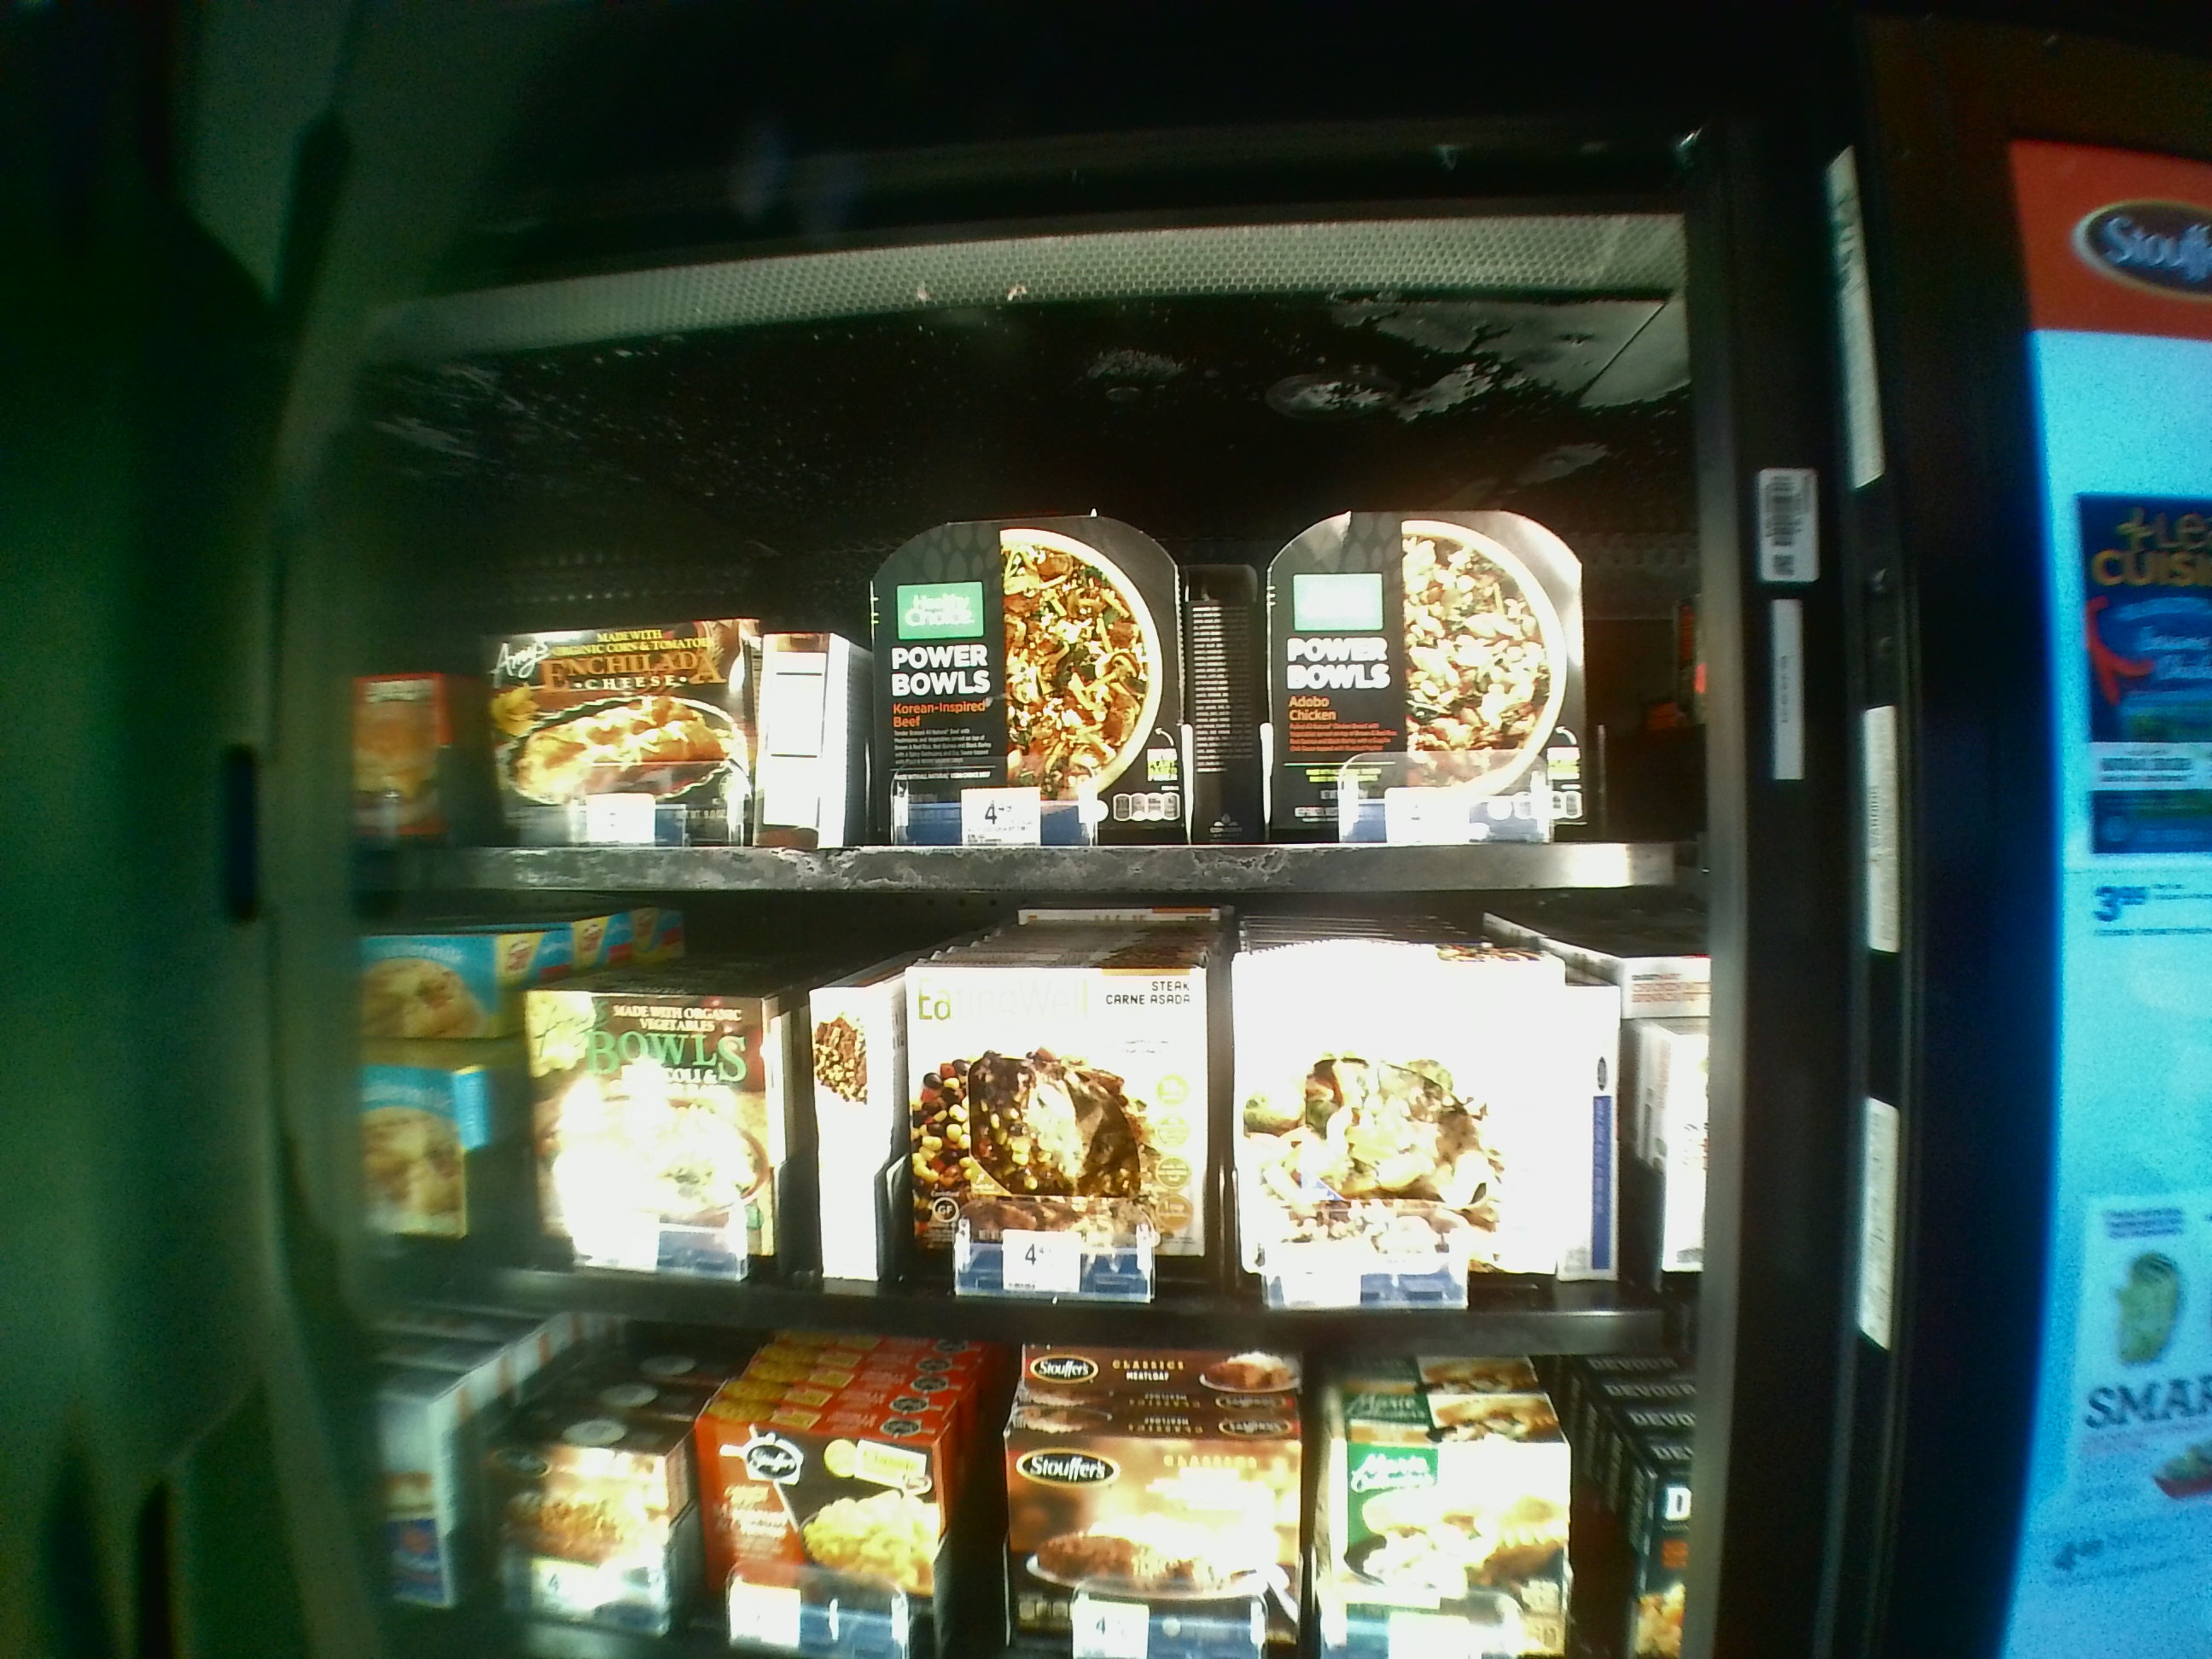shelf: (355, 364, 1686, 892), (354, 913, 1695, 1368)
